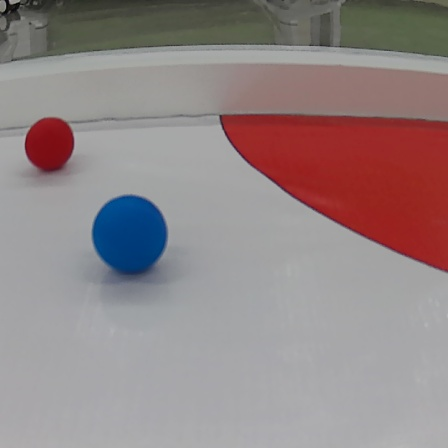blue: (89, 188, 172, 274)
red: (23, 116, 75, 172)
red_base: (215, 92, 448, 284)
